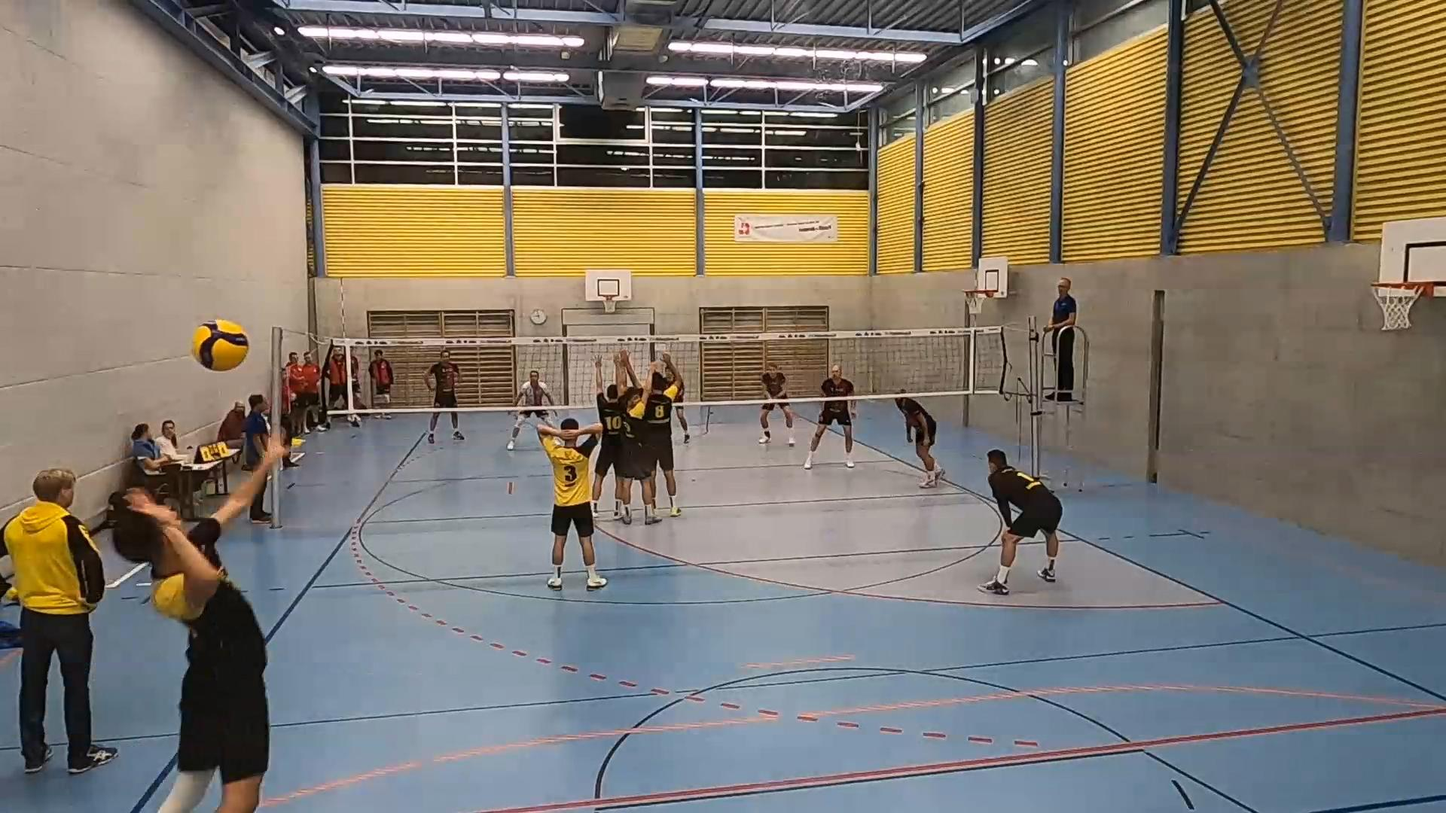battuta: (104, 463, 272, 813)
